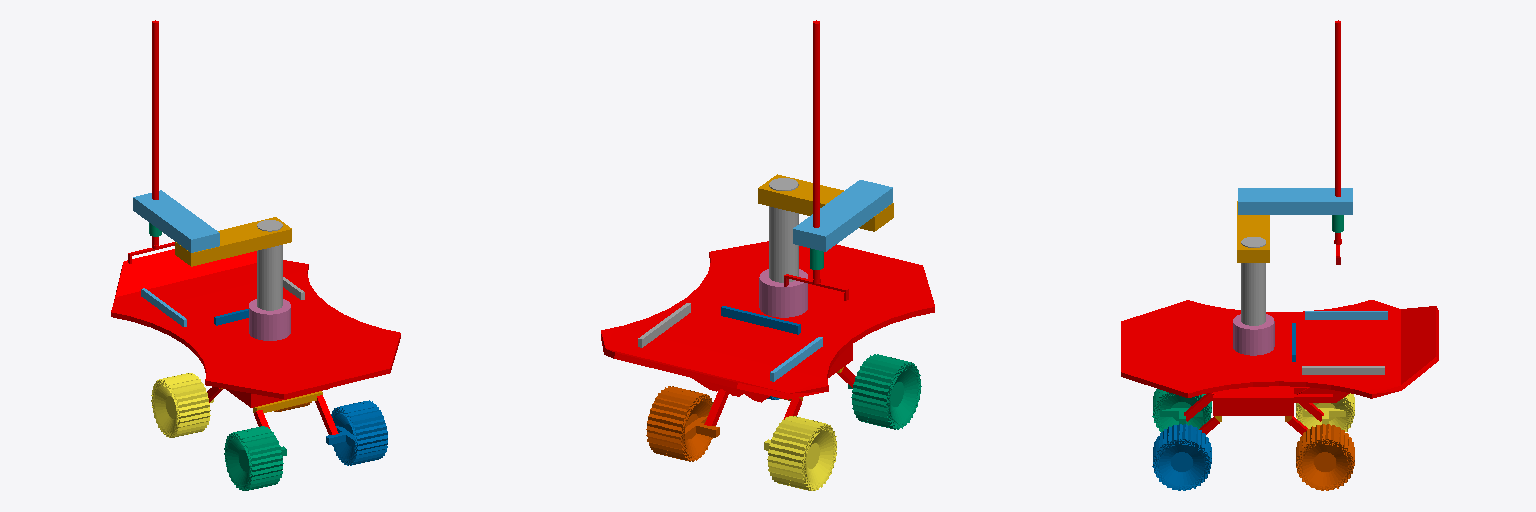
URDF robot description (rover):
<robot name="rover" version="1.0">
  <joint name="Cube.001_link_joint" type="fixed">
    <origin rpy="0.00000 0.00000 3.14159" xyz="-0.78494 1.00818 0.42156"/>
    <parent link="chassis_link"/>
    <child link="Cube.001_link"/>
  </joint>
  <joint name="Cube.002_link_joint" type="fixed">
    <origin rpy="0.00000 0.00000 1.57080" xyz="-0.01153 0.38661 0.42391"/>
    <parent link="chassis_link"/>
    <child link="Cube.002_link"/>
    <axis xyz="0.00000 0.00000 1.00000"/>
  </joint>
  <joint name="frontL_link_joint" type="continuous">
    <limit effort="0.00000" velocity="0.00000"/>
    <origin rpy="1.56418 -0.93639 3.12224" xyz="-0.02187 -0.29773 -0.28847"/>
    <parent link="armFrontL_link"/>
    <child link="frontL_link"/>
    <axis xyz="0.00000 0.00000 1.00000"/>
  </joint>
  <joint name="armFrontR_link_joint" type="fixed">
    <origin rpy="-0.00000 0.82216 1.57080" xyz="-0.40242 -0.20743 -0.20148"/>
    <parent link="axisF_link"/>
    <child link="armFrontR_link"/>
    <axis xyz="0.00000 0.00000 1.00000"/>
  </joint>
  <joint name="frontR_link_joint" type="continuous">
    <limit effort="0.00000" velocity="0.00000"/>
    <origin rpy="1.56418 -0.93639 3.12224" xyz="-0.02187 0.29825 -0.28847"/>
    <parent link="armFrontR_link"/>
    <child link="frontR_link"/>
    <axis xyz="0.00000 0.00000 1.00000"/>
  </joint>
  <joint name="base_link_joint" type="fixed">
    <origin rpy="0.00000 0.00000 3.14159" xyz="-0.00310 -0.08948 0.54051"/>
    <parent link="chassis_link"/>
    <child link="base_link"/>
  </joint>
  <joint name="link1_link_joint" type="fixed">
    <origin rpy="0.00000 0.00000 0.00000" xyz="0.00000 -0.00000 1.20145"/>
    <parent link="base_link"/>
    <child link="link1_link"/>
    <axis xyz="0.00000 0.00000 1.00000"/>
  </joint>
  <joint name="link2_link_joint" type="continuous">
    <limit effort="0.00000" velocity="0.00000"/>
    <origin rpy="-0.00000 -0.00000 0.00000" xyz="0.00000 -0.00000 0.00000"/>
    <parent link="link1_link"/>
    <child link="link2_link"/>
    <axis xyz="0.00000 0.00000 1.00000"/>
  </joint>
  <joint name="link3_link_joint" type="revolute">
    <limit lower="-3.14000" upper="3.14000" effort="0.00000" velocity="0.00000"/>
    <origin rpy="0.00000 0.00000 1.57080" xyz="0.96320 -0.00000 0.06102"/>
    <parent link="link2_link"/>
    <child link="link3_link"/>
    <axis xyz="0.00000 0.00000 1.00000"/>
  </joint>
  <joint name="rot_link4_link_joint" type="continuous">
    <limit effort="0.00000" velocity="0.00000"/>
    <origin rpy="0.00000 0.00000 -0.00000" xyz="-0.99849 0.00559 -0.52727"/>
    <parent link="link3_link"/>
    <child link="rot_link4_link"/>
    <axis xyz="0.00000 0.00000 1.00000"/>
  </joint>
  <joint name="pris_link4_link_joint" type="prismatic">
    <limit lower="-0.20000" upper="2.30000" effort="0.00000" velocity="0.00000"/>
    <origin rpy="3.14159 -0.00000 1.57080" xyz="-0.00000 -0.00000 -0.00000"/>
    <parent link="rot_link4_link"/>
    <child link="pris_link4_link"/>
    <axis xyz="0.00000 0.00000 1.00000"/>
  </joint>
  <joint name="pris_link4.001_link_joint" type="prismatic">
    <limit lower="0.00000" upper="0.20000" effort="0.00000" velocity="0.00000"/>
    <origin rpy="-3.14159 -1.57080 3.14159" xyz="0.34912 0.00059 0.07033"/>
    <parent link="pris_link4_link"/>
    <child link="pris_link4.001_link"/>
    <axis xyz="0.00000 0.00000 1.00000"/>
  </joint>
  <joint name="Cube_link_joint" type="fixed">
    <origin rpy="0.00000 0.00000 3.14159" xyz="0.76908 0.97227 0.42156"/>
    <parent link="chassis_link"/>
    <child link="Cube_link"/>
  </joint>
  <joint name="pris_link4.002_link_joint" type="prismatic">
    <limit lower="0.00000" upper="0.20000" effort="0.00000" velocity="0.00000"/>
    <origin rpy="-0.00000 1.57080 0.00000" xyz="-0.34568 0.00059 0.07033"/>
    <parent link="pris_link4_link"/>
    <child link="pris_link4.002_link"/>
    <axis xyz="0.00000 0.00000 1.00000"/>
  </joint>
  <joint name="axisB_link_joint" type="fixed">
    <origin rpy="0.00000 0.00000 3.14159" xyz="-0.00054 -0.50271 -0.36400"/>
    <parent link="chassis_link"/>
    <child link="axisB_link"/>
  </joint>
  <joint name="armBackL_link_joint" type="fixed">
    <origin rpy="0.00000 -0.82216 1.57080" xyz="0.41000 0.20743 -0.20148"/>
    <parent link="axisB_link"/>
    <child link="armBackL_link"/>
    <axis xyz="0.00000 0.00000 1.00000"/>
  </joint>
  <joint name="backL_link_joint" type="continuous">
    <limit effort="0.00000" velocity="0.00000"/>
    <origin rpy="-1.60020 -0.56075 0.01354" xyz="0.02187 -0.29773 -0.28847"/>
    <parent link="armBackL_link"/>
    <child link="backL_link"/>
    <axis xyz="0.00000 0.00000 1.00000"/>
  </joint>
  <joint name="armBackR_link_joint" type="fixed">
    <origin rpy="0.00000 -0.82216 1.57080" xyz="-0.40243 0.20743 -0.20148"/>
    <parent link="axisB_link"/>
    <child link="armBackR_link"/>
    <axis xyz="0.00000 0.00000 1.00000"/>
  </joint>
  <joint name="backR_link_joint" type="continuous">
    <limit effort="0.00000" velocity="0.00000"/>
    <origin rpy="-1.60020 -0.56075 0.01354" xyz="0.02187 0.29825 -0.28847"/>
    <parent link="armBackR_link"/>
    <child link="backR_link"/>
    <axis xyz="0.00000 0.00000 1.00000"/>
  </joint>
  <joint name="axisF_link_joint" type="fixed">
    <origin rpy="0.00000 0.00000 3.14159" xyz="-0.00054 0.32397 -0.36400"/>
    <parent link="chassis_link"/>
    <child link="axisF_link"/>
  </joint>
  <joint name="armFrontL_link_joint" type="fixed">
    <origin rpy="0.00000 0.82216 1.57080" xyz="0.41000 -0.20743 -0.20148"/>
    <parent link="axisF_link"/>
    <child link="armFrontL_link"/>
    <axis xyz="0.00000 0.00000 1.00000"/>
  </joint>
  <link name="chassis_link">
    <collision name="chassis_collision">
      <origin rpy="0.00000 0.00000 0.00000" xyz="0.00852 0.22069 0.34429"/>
      <geometry>
        <box size="1.95334 2.78490 0.07178"/>
      </geometry>
    </collision>
    <collision name="chassis_collision.000">
      <origin rpy="0.46218 -0.00000 0.00000" xyz="-0.00415 1.85173 0.44591"/>
      <geometry>
        <box size="1.50418 0.53089 0.08997"/>
      </geometry>
    </collision>
    <collision name="chassis_collision.000.001">
      <origin rpy="0.00000 0.00000 0.00000" xyz="-0.00415 -1.40790 0.33199"/>
      <geometry>
        <box size="1.46371 0.45353 0.10904"/>
      </geometry>
    </collision>
    <collision name="chassis_collision.000.001.002">
      <origin rpy="0.00000 0.00000 0.00000" xyz="-0.00415 -0.08136 -0.17336"/>
      <geometry>
        <box size="1.07593 0.96827 0.25516"/>
      </geometry>
    </collision>
    <inertial>
      <inertia ixx="0.00084" ixy="-0.00000" ixz="-0.00000" iyy="0.00030" iyz="0.00007" izz="0.00099"/>
      <origin rpy="0.00000 0.00000 0.00000" xyz="-0.00312 0.15411 0.17204"/>
      <mass value="0.00100"/>
    </inertial>
    <visual name="chassis">
      <material name="Material.001"/>
      <origin rpy="0.00000 0.00000 0.00000" xyz="0.00000 0.00000 0.00000"/>
      <geometry>
        <mesh filename="../meshes/dae/Cube.001.dae" scale="1.00000 1.00000 1.00000"/>
      </geometry>
    </visual>
  </link>
  <link name="Cube.001_link">
    <collision name="Cube.001_collision">
      <origin rpy="0.00000 0.00000 0.00000" xyz="0.00000 0.00000 0.00000"/>
      <geometry>
        <box size="0.04158 0.98771 0.10979"/>
      </geometry>
    </collision>
    <inertial>
      <inertia ixx="0.00008" ixy="0.00000" ixz="0.00000" iyy="0.00000" iyz="0.00000" izz="0.00008"/>
      <origin rpy="0.00000 0.00000 0.00000" xyz="0.00000 0.00000 0.00000"/>
      <mass value="0.00100"/>
    </inertial>
    <visual name="Cube.001">
      <material name="None"/>
      <origin rpy="0.00000 0.00000 0.00000" xyz="0.00000 0.00000 0.00000"/>
      <geometry>
        <box size="0.04657 0.98760 0.09602"/>
      </geometry>
    </visual>
  </link>
  <link name="armFrontL_link">
    <collision name="armFrontL_collision">
      <origin rpy="-0.00001 1.56569 -0.00001" xyz="-0.00257 -0.00198 0.00239"/>
      <geometry>
        <box size="0.50298 0.08415 0.06858"/>
      </geometry>
    </collision>
    <inertial>
      <inertia ixx="0.04846" ixy="0.00000" ixz="0.00000" iyy="0.02390" iyz="-0.02296" izz="0.02681"/>
      <origin rpy="0.00000 0.00000 0.00000" xyz="-0.00000 0.00000 -0.00000"/>
      <mass value="2.00000"/>
    </inertial>
    <visual name="armFrontL">
      <material name="Material.006"/>
      <origin rpy="3.14159 -1.56569 -3.14159" xyz="0.00000 0.00000 -0.00000"/>
      <geometry>
        <box size="0.53237 0.08219 0.08564"/>
      </geometry>
    </visual>
  </link>
  <link name="frontL_link">
    <collision name="frontL_collision">
      <origin rpy="0.01967 0.01541 -0.18756" xyz="0.00000 -0.00000 -0.00000"/>
      <geometry>
        <mesh filename="../meshes/dae/Cylinder.002.dae" scale="1.00000 1.00000 1.00000"/>
      </geometry>
    </collision>
    <inertial>
      <inertia ixx="0.56590" ixy="-0.00412" ixz="0.00325" iyy="0.35843" iyz="-0.00006" izz="0.35977"/>
      <origin rpy="0.00000 0.00000 0.00000" xyz="0.00054 -0.00061 0.03131"/>
      <mass value="10.00000"/>
    </inertial>
    <visual name="frontL">
      <material name="None"/>
      <origin rpy="-0.00000 0.00000 0.00000" xyz="-0.00000 -0.00000 -0.00000"/>
      <geometry>
        <mesh filename="../meshes/dae/Cylinder.007.dae" scale="1.00000 1.00000 1.00000"/>
      </geometry>
    </visual>
  </link>
  <link name="armFrontR_link">
    <collision name="armFrontR_collision">
      <origin rpy="-3.14157 -1.56569 3.14157" xyz="0.00000 0.00580 0.00000"/>
      <geometry>
        <box size="0.52966 0.08095 0.08510"/>
      </geometry>
    </collision>
    <inertial>
      <inertia ixx="0.04846" ixy="0.00000" ixz="0.00000" iyy="0.02390" iyz="-0.02296" izz="0.02681"/>
      <origin rpy="0.00000 0.00000 0.00000" xyz="0.00000 -0.00000 0.00000"/>
      <mass value="2.00000"/>
    </inertial>
    <visual name="armFrontR">
      <material name="Material.007"/>
      <origin rpy="-3.14157 -1.56569 3.14157" xyz="0.00000 -0.00000 0.00000"/>
      <geometry>
        <box size="0.53237 0.08219 0.08564"/>
      </geometry>
    </visual>
  </link>
  <link name="frontR_link">
    <collision name="frontR_collision">
      <origin rpy="0.01967 0.01541 -0.18756" xyz="0.00000 -0.00000 -0.00000"/>
      <geometry>
        <mesh filename="../meshes/dae/Cylinder.004.dae" scale="1.00000 1.00000 1.00000"/>
      </geometry>
    </collision>
    <inertial>
      <inertia ixx="0.56589" ixy="-0.00414" ixz="0.00322" iyy="0.35844" iyz="-0.00006" izz="0.35978"/>
      <origin rpy="0.00000 0.00000 0.00000" xyz="-0.00018 0.00078 -0.03141"/>
      <mass value="10.00000"/>
    </inertial>
    <visual name="frontR">
      <material name="None"/>
      <origin rpy="-0.00000 -0.00000 0.00000" xyz="0.00000 -0.00000 0.00000"/>
      <geometry>
        <mesh filename="../meshes/dae/Cylinder.008.dae" scale="1.00000 1.00000 1.00000"/>
      </geometry>
    </visual>
  </link>
  <link name="base_link">
    <collision name="base_collision">
      <origin rpy="0.00000 -0.00000 0.00000" xyz="0.00000 -0.00000 0.00000"/>
      <geometry>
        <cylinder radius="0.24386" length="0.32609"/>
      </geometry>
    </collision>
    <inertial>
      <inertia ixx="0.07439" ixy="0.00000" ixz="0.00000" iyy="0.07439" iyz="0.00000" izz="0.09086"/>
      <origin rpy="0.00000 0.00000 0.00000" xyz="0.00000 -0.00000 0.00000"/>
      <mass value="3.00000"/>
    </inertial>
    <visual name="base">
      <material name="None"/>
      <origin rpy="0.00000 0.00000 0.00000" xyz="0.00000 0.00000 0.00000"/>
      <geometry>
        <cylinder radius="0.24611" length="0.34037"/>
      </geometry>
    </visual>
  </link>
  <link name="link1_link">
    <collision name="link1_collision">
      <origin rpy="0.00000 0.00000 0.00000" xyz="0.00000 0.00000 -0.51620"/>
      <geometry>
        <cylinder radius="0.14773" length="1.02786"/>
      </geometry>
    </collision>
    <inertial>
      <inertia ixx="0.28050" ixy="0.00000" ixz="0.00000" iyy="0.28050" iyz="0.00000" izz="0.03308"/>
      <origin rpy="0.00000 0.00000 0.00000" xyz="0.00000 0.00000 -0.51377"/>
      <mass value="3.00000"/>
    </inertial>
    <visual name="link1">
      <material name="None"/>
      <origin rpy="0.00000 0.00000 0.00000" xyz="0.00000 0.00000 -0.51377"/>
      <geometry>
        <cylinder radius="0.14851" length="1.02753"/>
      </geometry>
    </visual>
  </link>
  <link name="link2_link">
    <collision name="link2_collision">
      <origin rpy="0.00000 0.00000 0.00000" xyz="0.48323 0.00337 -0.09891"/>
      <geometry>
        <box size="1.36656 0.37802 0.17955"/>
      </geometry>
    </collision>
    <inertial>
      <inertia ixx="0.01460" ixy="0.00000" ixz="-0.00000" iyy="0.15831" iyz="0.00000" izz="0.16753"/>
      <origin rpy="0.00000 0.00000 0.00000" xyz="0.48323 0.00337 -0.09891"/>
      <mass value="1.00000"/>
    </inertial>
    <visual name="link2">
      <material name="None"/>
      <origin rpy="0.00000 0.00000 0.00000" xyz="0.48828 0.00198 -0.09819"/>
      <geometry>
        <box size="1.35462 0.38291 0.17125"/>
      </geometry>
    </visual>
  </link>
  <link name="link3_link">
    <collision name="link3_collision">
      <origin rpy="0.00000 -0.00000 -0.00000" xyz="-0.48941 -0.00901 0.01379"/>
      <geometry>
        <box size="1.34352 0.38869 0.16903"/>
      </geometry>
    </collision>
    <inertial>
      <inertia ixx="0.15280" ixy="0.00000" ixz="-0.00000" iyy="0.01497" iyz="0.00000" izz="0.16301"/>
      <origin rpy="0.00000 0.00000 0.00000" xyz="-0.48941 -0.00901 0.01379"/>
      <mass value="1.00000"/>
    </inertial>
    <visual name="link3">
      <material name="None"/>
      <origin rpy="0.00000 -0.00000 0.00000" xyz="-0.49140 -0.00796 0.01204"/>
      <geometry>
        <box size="1.35462 0.38291 0.17125"/>
      </geometry>
    </visual>
  </link>
  <link name="rot_link4_link">
    <collision name="rot_link4_collision">
      <origin rpy="0.00000 0.00000 -0.00000" xyz="0.00000 -0.00000 0.31437"/>
      <geometry>
        <cylinder radius="0.07101" length="0.27439"/>
      </geometry>
    </collision>
    <inertial>
      <inertia ixx="0.00404" ixy="0.00000" ixz="0.00000" iyy="0.00404" iyz="0.00000" izz="0.00126"/>
      <origin rpy="0.00000 0.00000 0.00000" xyz="0.00000 -0.00000 0.31363"/>
      <mass value="0.50000"/>
    </inertial>
    <visual name="rot_link4">
      <material name="None"/>
      <origin rpy="-0.00000 -0.00000 0.00000" xyz="-0.00000 -0.00000 0.31363"/>
      <geometry>
        <cylinder radius="0.07102" length="0.28609"/>
      </geometry>
    </visual>
  </link>
  <link name="pris_link4_link">
    <collision name="pris_link4_collision">
      <origin rpy="3.14159 0.00000 -3.14159" xyz="-0.00000 0.00000 -0.00000"/>
      <geometry>
        <mesh filename="../meshes/dae/Cylinder.013.dae" scale="0.03922 0.03922 0.61477"/>
      </geometry>
    </collision>
    <inertial>
      <inertia ixx="0.00071" ixy="0.00000" ixz="-0.00000" iyy="0.00072" iyz="0.00000" izz="0.00001"/>
      <origin rpy="0.00000 0.00000 0.00000" xyz="-0.00000 0.00000 0.00000"/>
      <mass value="0.00100"/>
    </inertial>
    <visual name="pris_link4">
      <material name="Material.004"/>
      <origin rpy="3.14159 0.00000 3.14159" xyz="-0.00000 0.00000 -0.00000"/>
      <geometry>
        <mesh filename="../meshes/dae/Cylinder.013.dae" scale="0.03922 0.03922 0.61477"/>
      </geometry>
    </visual>
  </link>
  <link name="Cube.002_link">
    <collision name="Cube.002_collision">
      <origin rpy="0.00000 0.00000 0.00000" xyz="0.00000 0.00000 0.00000"/>
      <geometry>
        <box size="0.05301 0.92029 0.10866"/>
      </geometry>
    </collision>
    <inertial>
      <inertia ixx="0.00000" ixy="0.00000" ixz="0.00000" iyy="0.00007" iyz="0.00000" izz="0.00007"/>
      <origin rpy="0.00000 0.00000 0.00000" xyz="0.00000 0.00000 0.00000"/>
      <mass value="0.00100"/>
    </inertial>
    <visual name="Cube.002">
      <material name="None"/>
      <origin rpy="0.00000 0.00000 -0.00000" xyz="0.00000 0.00000 0.00000"/>
      <geometry>
        <box size="0.04657 0.89445 0.09602"/>
      </geometry>
    </visual>
  </link>
  <link name="pris_link4.001_link">
    <collision name="pris_link4.001_collision">
      <origin rpy="0.00000 -1.57080 0.00000" xyz="-0.00000 -0.00000 -0.00000"/>
      <geometry>
        <box size="0.02510 0.06000 0.09410"/>
      </geometry>
    </collision>
    <inertial>
      <inertia ixx="0.00052" ixy="0.00000" ixz="0.00000" iyy="0.00040" iyz="0.00000" izz="0.00018"/>
      <origin rpy="0.00000 0.00000 0.00000" xyz="-0.00000 0.00000 0.00000"/>
      <mass value="0.50000"/>
    </inertial>
    <visual name="pris_link4.001">
      <material name="Material"/>
      <origin rpy="-0.00000 -1.57080 0.00000" xyz="-0.00000 -0.00000 -0.00000"/>
      <geometry>
        <mesh filename="../meshes/dae/Cylinder.009.dae" scale="0.03922 0.03922 0.61477"/>
      </geometry>
    </visual>
  </link>
  <link name="pris_link4.002_link">
    <collision name="pris_link4.002_collision">
      <origin rpy="-3.14159 -1.57080 -3.14159" xyz="0.00000 0.00000 -0.00000"/>
      <geometry>
        <box size="0.02510 0.06000 0.09410"/>
      </geometry>
    </collision>
    <inertial>
      <inertia ixx="0.00052" ixy="-0.00000" ixz="0.00000" iyy="0.00040" iyz="-0.00000" izz="0.00018"/>
      <origin rpy="0.00000 0.00000 0.00000" xyz="0.00000 0.00000 -0.00000"/>
      <mass value="0.50000"/>
    </inertial>
    <visual name="pris_link4.002">
      <material name="Material.003"/>
      <origin rpy="0.00000 1.57080 0.00000" xyz="0.00000 0.00000 -0.00000"/>
      <geometry>
        <mesh filename="../meshes/dae/Cylinder.010.dae" scale="0.03922 0.03922 0.61477"/>
      </geometry>
    </visual>
  </link>
  <link name="Cube_link">
    <collision name="Cube_collision">
      <origin rpy="0.00000 0.00000 0.00000" xyz="0.00000 0.00000 0.00000"/>
      <geometry>
        <box size="0.06923 0.98010 0.10221"/>
      </geometry>
    </collision>
    <inertial>
      <inertia ixx="0.00008" ixy="0.00000" ixz="0.00000" iyy="0.00000" iyz="0.00000" izz="0.00008"/>
      <origin rpy="0.00000 0.00000 0.00000" xyz="0.00000 0.00000 0.00000"/>
      <mass value="0.00100"/>
    </inertial>
    <visual name="Cube">
      <material name="None"/>
      <origin rpy="0.00000 0.00000 0.00000" xyz="0.00000 0.00000 0.00000"/>
      <geometry>
        <box size="0.04657 0.98760 0.09602"/>
      </geometry>
    </visual>
  </link>
  <link name="axisB_link">
    <collision name="axisB_collision">
      <origin rpy="0.00000 0.00000 0.00000" xyz="-0.00231 0.00000 0.00000"/>
      <geometry>
        <box size="0.90922 0.09218 0.07716"/>
      </geometry>
    </collision>
    <inertial>
      <inertia ixx="0.00241" ixy="0.00000" ixz="0.00000" iyy="0.13877" iyz="0.00000" izz="0.13920"/>
      <origin rpy="0.00000 0.00000 0.00000" xyz="-0.00231 0.00000 0.00000"/>
      <mass value="2.00000"/>
    </inertial>
    <visual name="axisB">
      <material name="None"/>
      <origin rpy="0.00000 0.00000 0.00000" xyz="-0.00000 0.00000 0.00000"/>
      <geometry>
        <box size="0.88702 0.08219 0.08564"/>
      </geometry>
    </visual>
  </link>
  <link name="armBackL_link">
    <collision name="armBackL_collision">
      <origin rpy="-0.00001 -1.56569 0.00001" xyz="0.00479 -0.00207 0.00445"/>
      <geometry>
        <box size="0.53576 0.07240 0.07520"/>
      </geometry>
    </collision>
    <inertial>
      <inertia ixx="0.04846" ixy="0.00000" ixz="-0.00000" iyy="0.02390" iyz="0.02296" izz="0.02681"/>
      <origin rpy="0.00000 0.00000 0.00000" xyz="-0.00000 0.00000 -0.00000"/>
      <mass value="2.00000"/>
    </inertial>
    <visual name="armBackL">
      <material name="Material.002"/>
      <origin rpy="-3.14159 1.56569 -3.14159" xyz="-0.00000 0.00000 -0.00000"/>
      <geometry>
        <box size="0.53237 0.08219 0.08564"/>
      </geometry>
    </visual>
  </link>
  <link name="backL_link">
    <collision name="backL_collision">
      <origin rpy="0.01967 0.01541 -0.18756" xyz="-0.00000 0.00000 -0.00000"/>
      <geometry>
        <mesh filename="../meshes/dae/Cylinder.001.dae" scale="1.00000 1.00000 1.00000"/>
      </geometry>
    </collision>
    <inertial>
      <inertia ixx="0.56590" ixy="-0.00415" ixz="0.00325" iyy="0.35843" iyz="-0.00006" izz="0.35977"/>
      <origin rpy="0.00000 0.00000 0.00000" xyz="0.00050 -0.00084 0.03131"/>
      <mass value="10.00000"/>
    </inertial>
    <visual name="backL">
      <material name="None"/>
      <origin rpy="-0.00000 0.00000 0.00000" xyz="-0.00000 0.00000 -0.00000"/>
      <geometry>
        <mesh filename="../meshes/dae/Cylinder.005.dae" scale="1.00000 1.00000 1.00000"/>
      </geometry>
    </visual>
  </link>
  <link name="armBackR_link">
    <collision name="armBackR_collision">
      <origin rpy="-3.14156 1.56569 -3.14156" xyz="-0.00000 0.00000 0.00000"/>
      <geometry>
        <box size="0.56133 0.08674 0.08389"/>
      </geometry>
    </collision>
    <inertial>
      <inertia ixx="0.04846" ixy="0.00000" ixz="-0.00000" iyy="0.02390" iyz="0.02296" izz="0.02681"/>
      <origin rpy="0.00000 0.00000 0.00000" xyz="-0.00000 0.00000 0.00000"/>
      <mass value="2.00000"/>
    </inertial>
    <visual name="armBackR">
      <material name="Material.005"/>
      <origin rpy="-3.14157 1.56569 -3.14157" xyz="-0.00000 0.00000 -0.00000"/>
      <geometry>
        <box size="0.53238 0.08219 0.08564"/>
      </geometry>
    </visual>
  </link>
  <link name="backR_link">
    <collision name="backR_collision">
      <origin rpy="0.01967 0.01541 -0.18756" xyz="0.00000 0.00000 -0.00000"/>
      <geometry>
        <mesh filename="../meshes/dae/Cylinder.003.dae" scale="1.00000 1.00000 1.00000"/>
      </geometry>
    </collision>
    <inertial>
      <inertia ixx="0.56589" ixy="-0.00412" ixz="0.00322" iyy="0.35844" iyz="-0.00006" izz="0.35978"/>
      <origin rpy="0.00000 0.00000 0.00000" xyz="-0.00022 0.00055 -0.03141"/>
      <mass value="10.00000"/>
    </inertial>
    <visual name="backR">
      <material name="None"/>
      <origin rpy="-0.00000 0.00000 0.00000" xyz="0.00000 0.00000 0.00000"/>
      <geometry>
        <mesh filename="../meshes/dae/Cylinder.006.dae" scale="1.00000 1.00000 1.00000"/>
      </geometry>
    </visual>
  </link>
  <link name="axisF_link">
    <collision name="axisF_collision">
      <origin rpy="0.00000 0.00000 0.00000" xyz="0.00000 -0.00000 0.00000"/>
      <geometry>
        <box size="0.85750 0.08751 0.07235"/>
      </geometry>
    </collision>
    <inertial>
      <inertia ixx="0.00215" ixy="0.00000" ixz="0.00000" iyy="0.12342" iyz="0.00000" izz="0.12383"/>
      <origin rpy="0.00000 0.00000 0.00000" xyz="0.00000 -0.00000 0.00000"/>
      <mass value="2.00000"/>
    </inertial>
    <visual name="axisF">
      <material name="None"/>
      <origin rpy="0.00000 0.00000 0.00000" xyz="0.00000 0.00000 0.00000"/>
      <geometry>
        <box size="0.88702 0.08219 0.08564"/>
      </geometry>
    </visual>
  </link>
  <material name="Material">
    <color rgba="0.80000 0.02745 0.05098 1.00000"/>
  </material>
  <material name="Material.001">
    <color rgba="1.00000 0.00000 0.00000 1.00000"/>
  </material>
  <material name="Material.002">
    <color rgba="1.00000 0.00000 0.00000 1.00000"/>
  </material>
  <material name="Material.003">
    <color rgba="1.00000 0.00000 0.00000 1.00000"/>
  </material>
  <material name="Material.004">
    <color rgba="1.00000 0.00000 0.00000 1.00000"/>
  </material>
  <material name="Material.005">
    <color rgba="1.00000 0.00000 0.00000 1.00000"/>
  </material>
  <material name="Material.006">
    <color rgba="1.00000 0.00000 0.00000 1.00000"/>
  </material>
  <material name="Material.007">
    <color rgba="1.00000 0.00000 0.00000 1.00000"/>
  </material>
</robot>

--- Render facts (derived) ---
3 views of the same robot in one strip: view 1: azimuth 30°, elevation 25°; view 2: azimuth 150°, elevation 25°; view 3: azimuth 270°, elevation 25° (orthographic).
Robot: rover — 22 links, 21 joints (1 revolute, 6 continuous, 3 prismatic, 11 fixed); root link chassis_link; default pose: all joints at 0.
Visible links, largest first — view 1: chassis_link, backL_link, frontL_link, backR_link, link3_link, link2_link, link1_link, pris_link4_link, base_link; view 2: chassis_link, frontL_link, backL_link, frontR_link, link3_link, link1_link, link2_link, pris_link4_link, base_link, Cube.002_link, Cube.001_link, Cube_link; view 3: chassis_link, backR_link, frontR_link, link3_link, link1_link, backL_link, link2_link, base_link, frontL_link, pris_link4_link, Cube.001_link, Cube_link.
Boxes of the visible links, x1,y1,x2,y2 form: chassis_link: (111,249,400,407); backL_link: (224,426,286,490); frontL_link: (151,373,213,437); backR_link: (326,400,387,465); link3_link: (133,190,219,252); link2_link: (175,217,291,266); link1_link: (257,220,282,310); pris_link4_link: (128,20,174,255); base_link: (249,299,290,340); chassis_link: (601,241,934,402); frontL_link: (764,416,836,490); backL_link: (848,354,921,429); frontR_link: (646,386,719,461); link3_link: (793,180,892,251); link1_link: (769,178,798,282); link2_link: (758,174,893,231); pris_link4_link: (784,20,848,292); base_link: (759,269,807,317); Cube.002_link: (721,306,800,334); Cube.001_link: (770,337,822,381); Cube_link: (638,303,690,347); chassis_link: (1121,300,1438,415); backR_link: (1152,424,1211,490); frontR_link: (1296,424,1354,490); link3_link: (1238,188,1352,214); link1_link: (1241,237,1265,325); backL_link: (1152,389,1211,431); link2_link: (1237,201,1269,262); base_link: (1233,314,1274,355); frontL_link: (1296,393,1354,431); pris_link4_link: (1334,20,1341,257); Cube.001_link: (1305,311,1387,319); Cube_link: (1302,366,1384,374).
Size in the robot's own frame: 2.65 by 3.75 by 5.27 metres.
Meshes: 8 distinct files referenced, 8 mesh visuals loaded (8 Collada DAE).
